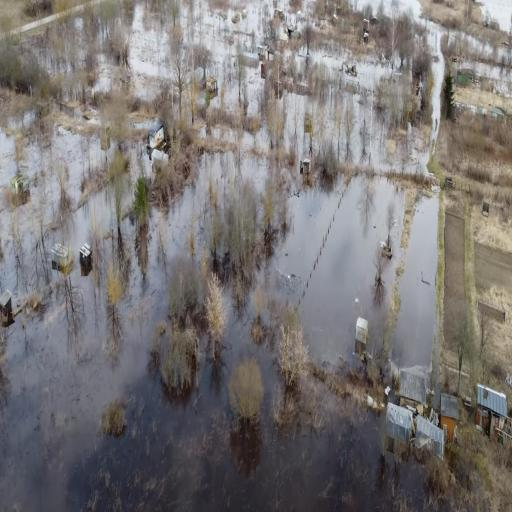flood: (0, 320, 428, 510), (107, 152, 234, 399), (269, 176, 405, 365), (0, 104, 104, 293), (193, 0, 270, 113), (392, 193, 440, 366), (317, 55, 381, 161), (94, 3, 170, 90), (378, 123, 432, 171), (428, 19, 447, 140), (88, 189, 112, 251), (225, 316, 253, 361), (482, 0, 512, 30), (294, 92, 302, 155), (398, 0, 422, 19), (357, 0, 381, 8), (384, 0, 392, 13)
house: (474, 378, 508, 441), (398, 358, 434, 412), (386, 398, 416, 448), (438, 386, 460, 442), (1, 283, 17, 328), (10, 174, 31, 206), (354, 310, 370, 350), (147, 120, 166, 153), (51, 241, 71, 270), (80, 243, 92, 266)
